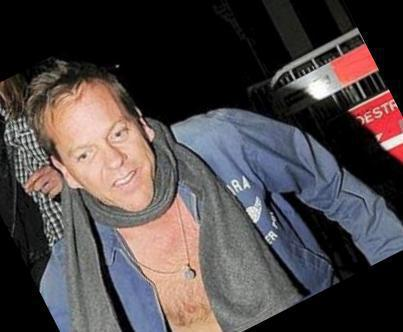Drunk: (50, 91, 154, 211)
